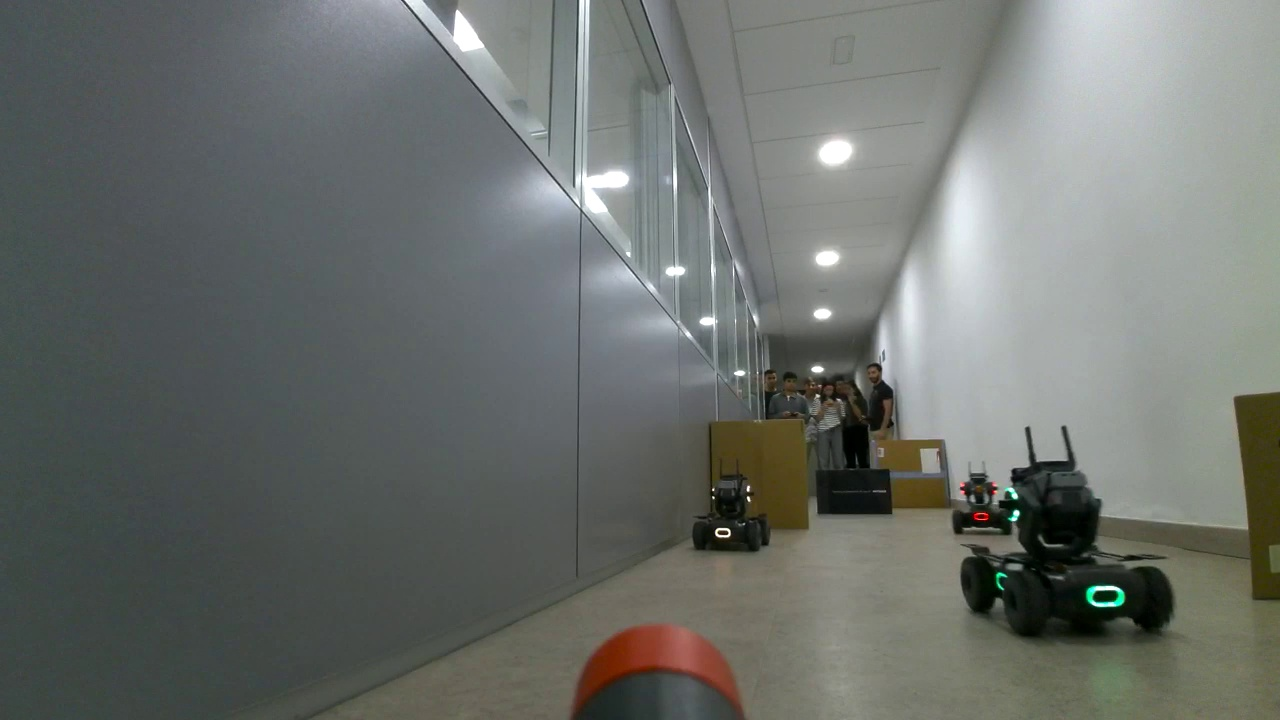robot: (956, 458, 1171, 643), (690, 471, 771, 554), (949, 477, 1013, 537)
